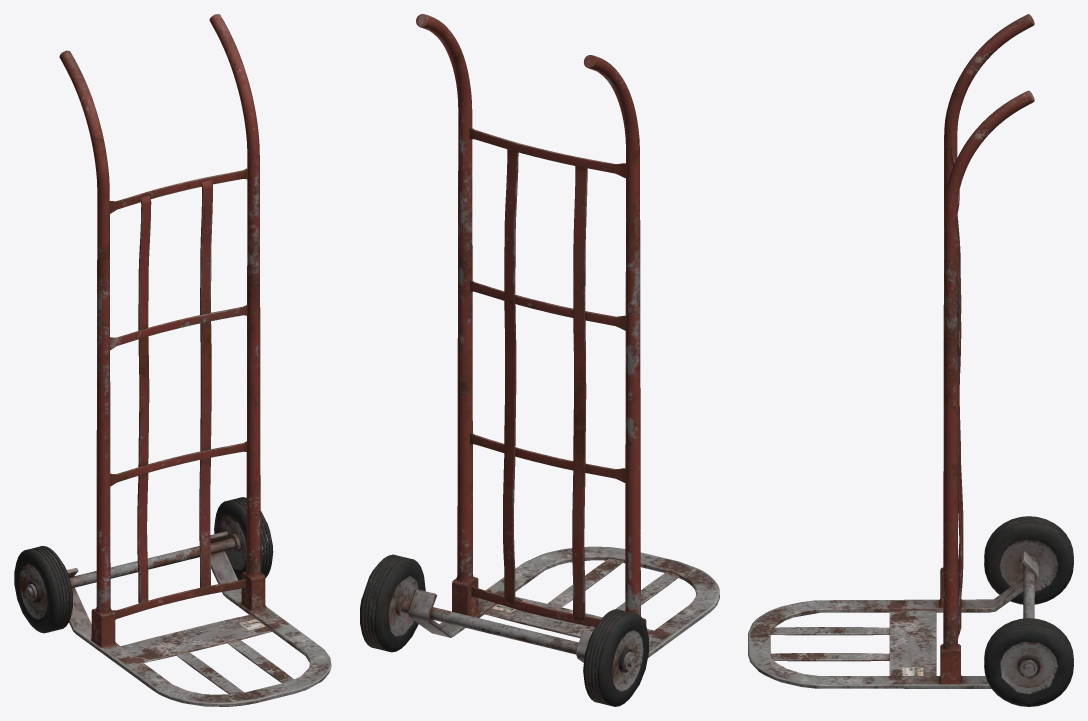
Rendered from hand_truck.glb.
3 renders of one model, left to right at view 1: azimuth 30°, elevation 25°; view 2: azimuth 150°, elevation 25°; view 3: azimuth 270°, elevation 25°, orthographic. The views are drawn at different scales.
Parts seen in each view (by area): view 1: hand_truck; view 2: hand_truck; view 3: hand_truck.
Part boxes in pixels (left/top/right/bottom): hand_truck: left=14, top=14, right=331, bottom=706; hand_truck: left=360, top=14, right=719, bottom=706; hand_truck: left=748, top=14, right=1073, bottom=706.
Bounding box in the file's own units: 0.5932 × 1.4 × 0.6923.
Materials: 1 (1 with a texture image).
